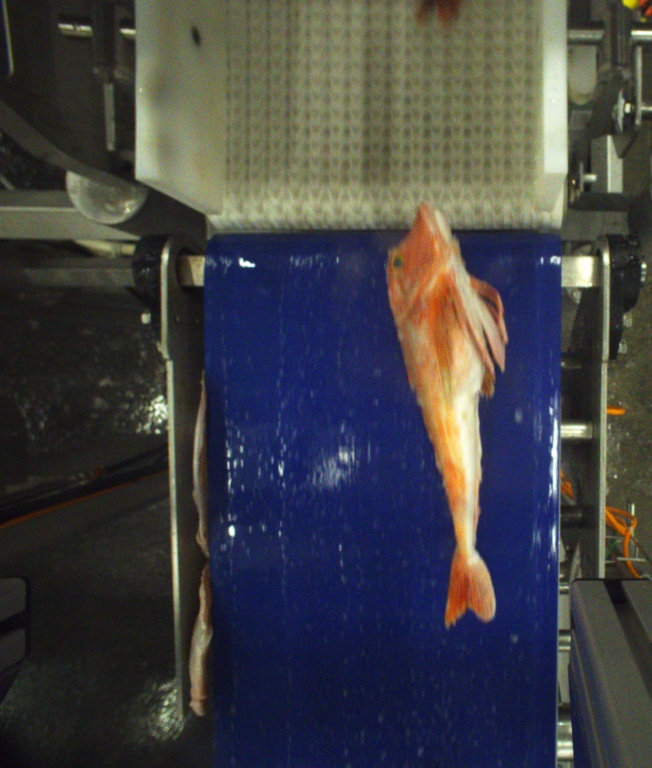GUU: (385, 199, 506, 629)
